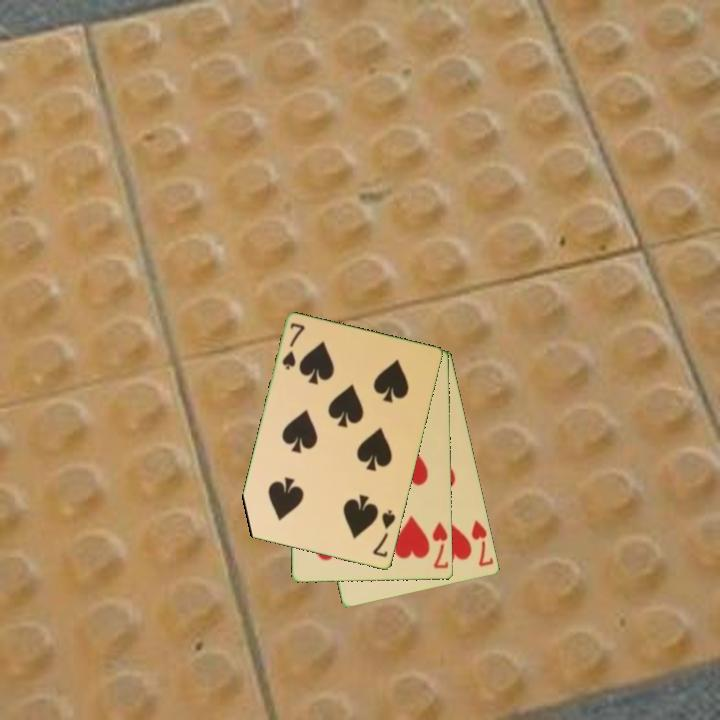7h: (468, 517, 497, 570), (429, 519, 452, 572)
7s: (369, 506, 398, 561), (279, 319, 308, 373)
